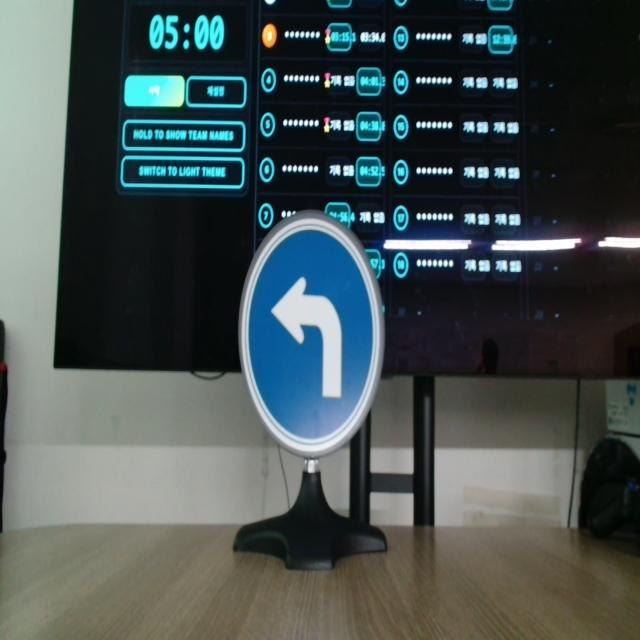left_direction: (230, 193, 394, 472)
